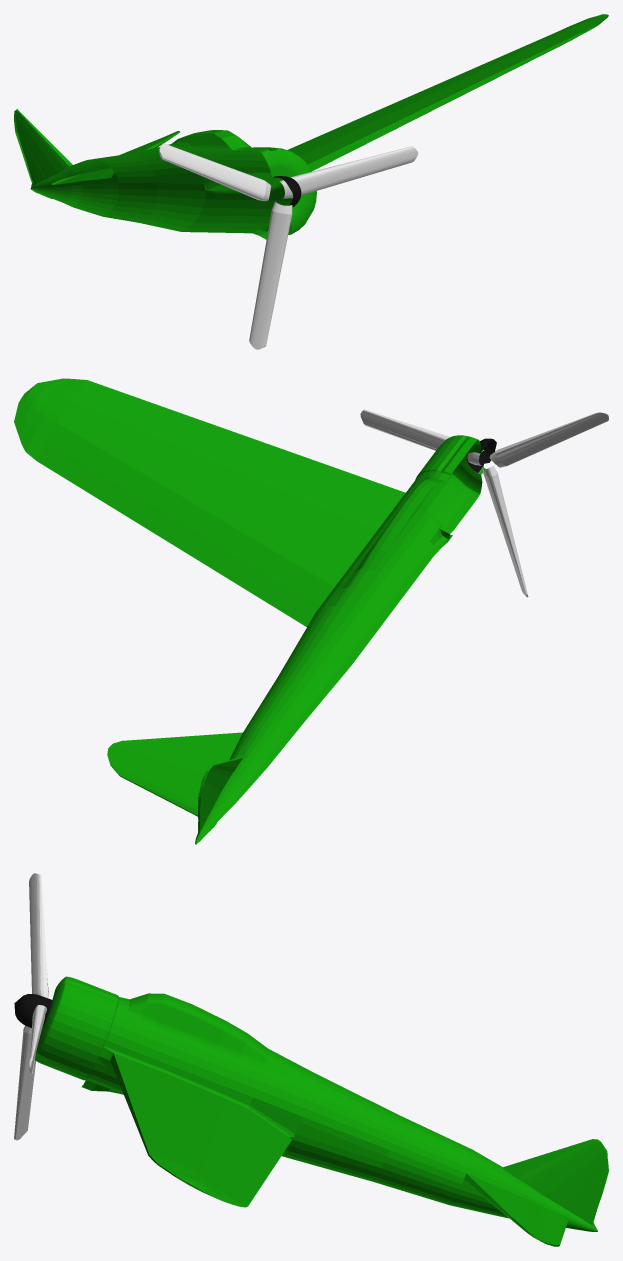
3 renders of one model, top to bottom at view 1: azimuth 30°, elevation 25°; view 2: azimuth 150°, elevation 25°; view 3: azimuth 270°, elevation 25°, orthographic. The views are drawn at different scales.
Parts seen in each view (by area): view 1: Plane, Rotor, Rotor.001, Rotor.002; view 2: Plane, Rotor.002, Rotor.001, Rotor; view 3: Plane, Rotor.002, Rotor, Elice, Rotor.001.
Part boxes in pixels (x1,y1,x2,y2): Plane: (14,14,608,239); Rotor: (249,201,292,349); Rotor.001: (280,146,418,198); Rotor.002: (159,143,270,201); Plane: (14,378,485,844); Rotor.002: (489,412,608,467); Rotor.001: (360,409,483,465); Rotor: (482,466,528,597); Plane: (35,976,608,1246); Rotor.002: (29,873,48,998); Rotor: (14,1025,35,1140); Elice: (14,994,52,1028); Rotor.001: (29,1005,45,1073).
Bounding box in the file's own units: 13.66 × 6.99 × 13.14.
